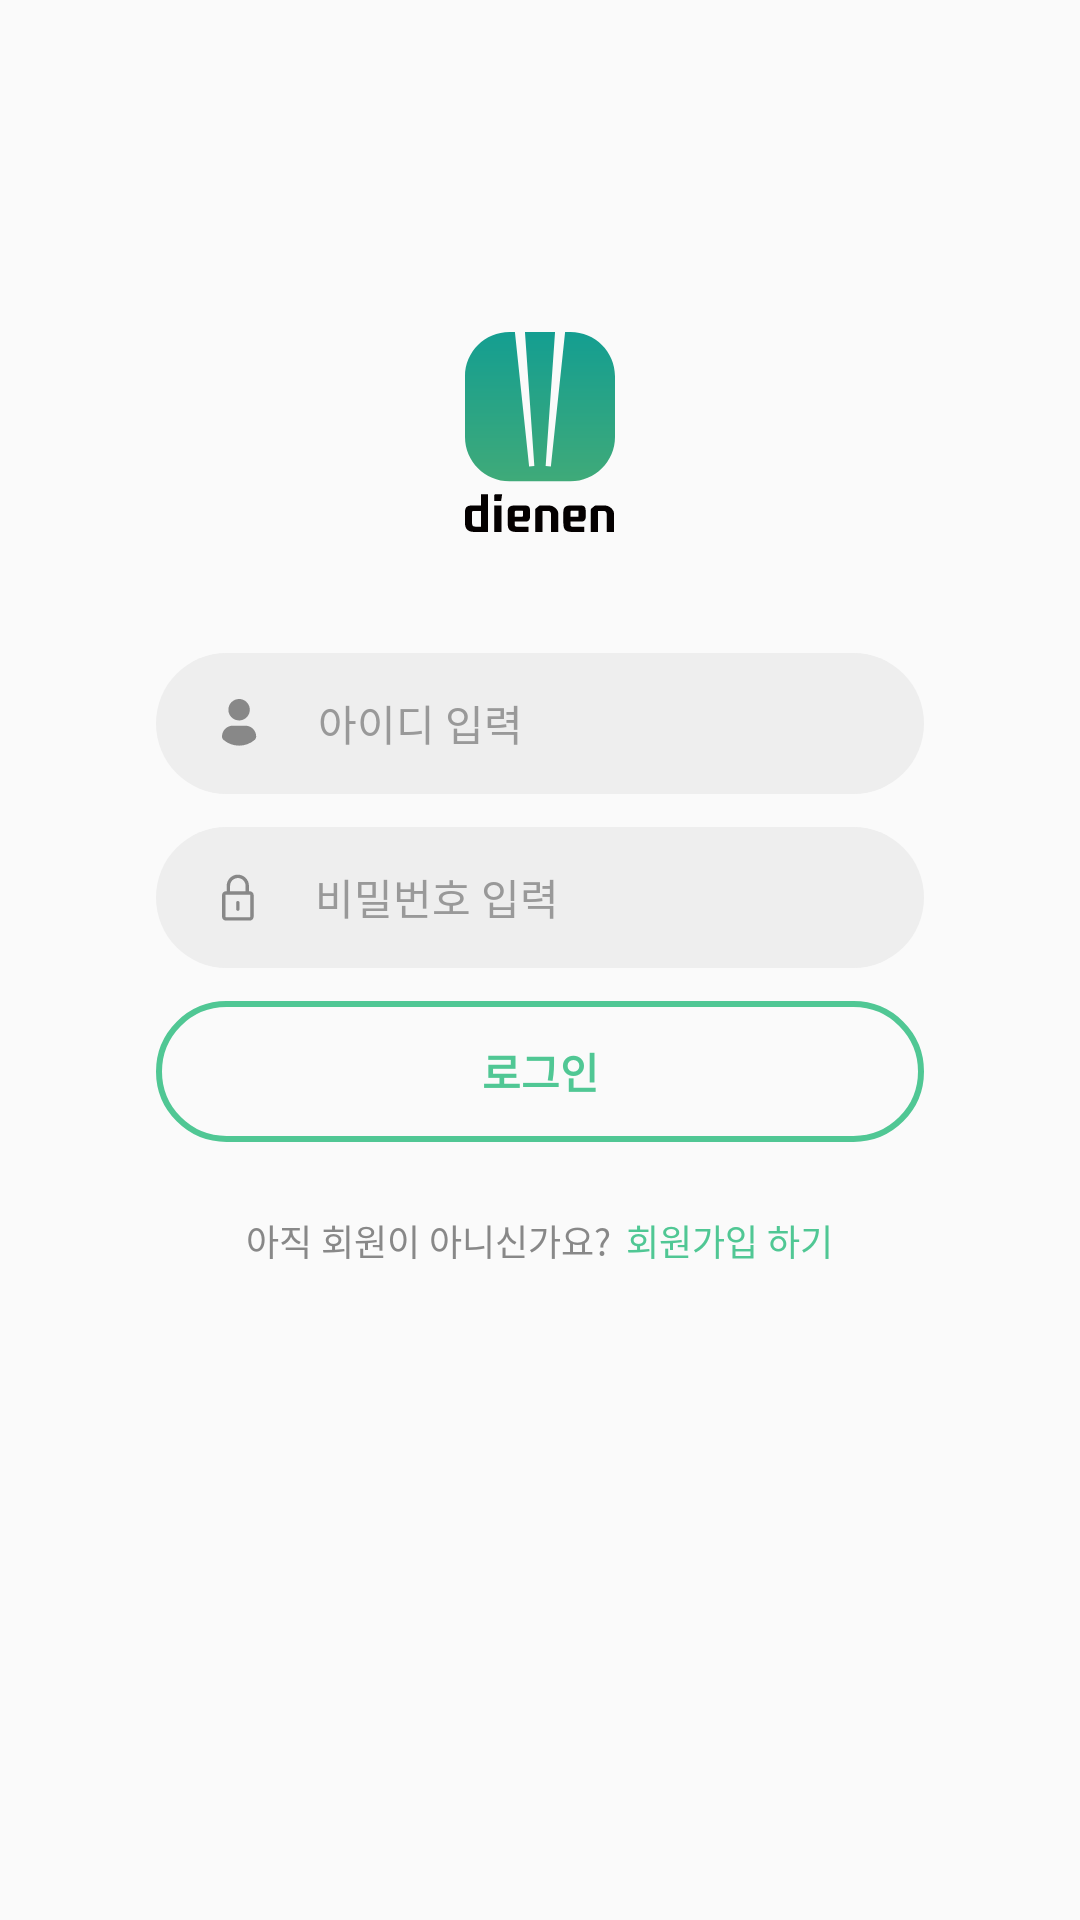

Icon click points for this 1080x1920 phone screenshot, format [x,y]:
lock: [238,897]
person: [239,722]
